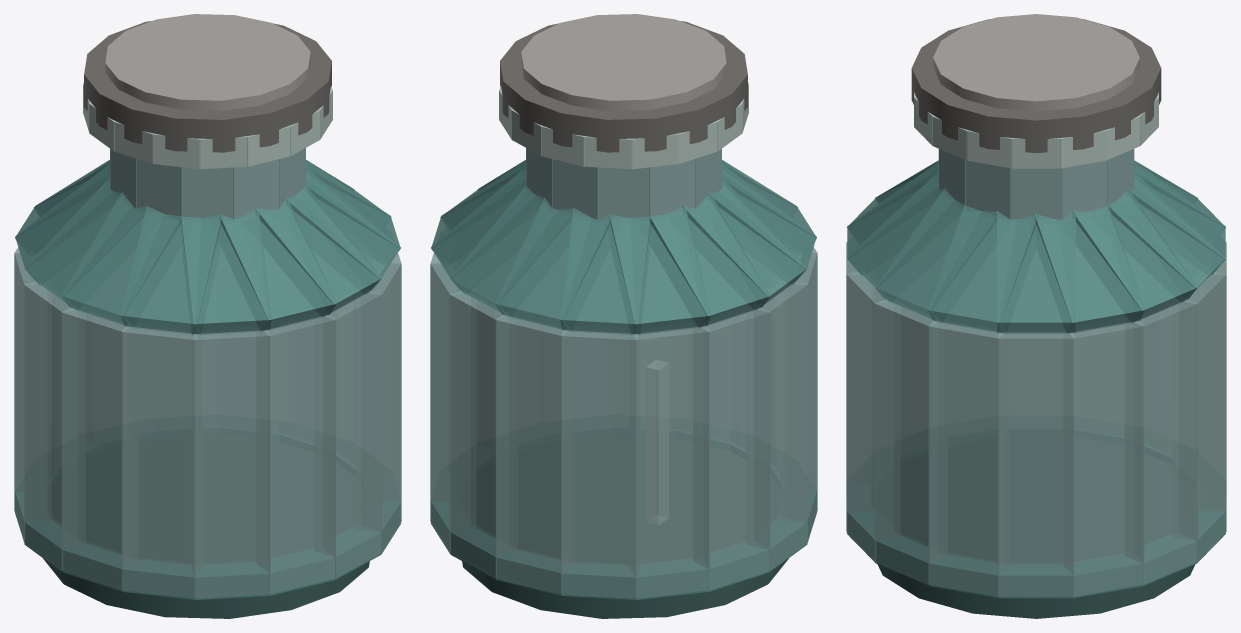
The model's file is CMU3DBottleCappedStudyCloud.glb.
3 views of the same model, side by side, from view 1: azimuth 30°, elevation 25°; view 2: azimuth 150°, elevation 25°; view 3: azimuth 270°, elevation 25° (orthographic).
Visible parts, largest first — view 1: thick circular glass heel, hollow bottle wall 11, hollow bottle wall 13, hollow bottle wall 12, hollow bottle wall 10, hollow bottle wall 14, recessed lid crown, hollow bottle wall 09, hollow bottle wall 15, source grey removable lid, inward glass shoulder 11, inward glass shoulder 13 (+35 smaller); view 2: thick circular glass heel, hollow bottle wall 07, hollow bottle wall 05, hollow bottle wall 06, hollow bottle wall 08, hollow bottle wall 04, recessed lid crown, hollow bottle wall 09, hollow bottle wall 03, source grey removable lid, inward glass shoulder 07, inward glass shoulder 05 (+36 smaller); view 3: thick circular glass heel, hollow bottle wall 16, hollow bottle wall 02, hollow bottle wall 01, hollow bottle wall 15, hollow bottle wall 03, recessed lid crown, hollow bottle wall 04, hollow bottle wall 14, source grey removable lid, inward glass shoulder 02, inward glass shoulder 16 (+33 smaller).
Boxes of the visible parts, bbox=[...] form: thick circular glass heel: bbox=[43, 435, 369, 618]; hollow bottle wall 11: bbox=[121, 326, 202, 598]; hollow bottle wall 13: bbox=[256, 314, 336, 593]; hollow bottle wall 12: bbox=[191, 329, 270, 598]; hollow bottle wall 10: bbox=[61, 307, 138, 589]; hollow bottle wall 14: bbox=[314, 291, 382, 578]; recessed lid crown: bbox=[105, 14, 310, 110]; hollow bottle wall 09: bbox=[24, 281, 85, 570]; hollow bottle wall 15: bbox=[356, 262, 401, 552]; source grey removable lid: bbox=[84, 21, 331, 152]; inward glass shoulder 11: bbox=[121, 206, 222, 335]; inward glass shoulder 13: bbox=[219, 197, 336, 331]; thick circular glass heel: bbox=[462, 435, 788, 618]; hollow bottle wall 07: bbox=[629, 326, 710, 598]; hollow bottle wall 05: bbox=[495, 315, 575, 593]; hollow bottle wall 06: bbox=[561, 329, 640, 598]; hollow bottle wall 08: bbox=[693, 307, 770, 589]; hollow bottle wall 04: bbox=[449, 291, 517, 578]; recessed lid crown: bbox=[521, 14, 726, 110]; hollow bottle wall 09: bbox=[746, 281, 807, 570]; hollow bottle wall 03: bbox=[430, 262, 475, 552]; source grey removable lid: bbox=[500, 21, 747, 152]; inward glass shoulder 07: bbox=[609, 206, 710, 335]; inward glass shoulder 05: bbox=[495, 197, 612, 331]; thick circular glass heel: bbox=[877, 436, 1195, 618]; hollow bottle wall 16: bbox=[928, 320, 1009, 596]; hollow bottle wall 02: bbox=[1063, 320, 1144, 596]; hollow bottle wall 01: bbox=[998, 331, 1074, 596]; hollow bottle wall 15: bbox=[875, 299, 947, 583]; hollow bottle wall 03: bbox=[1125, 299, 1197, 583]; recessed lid crown: bbox=[933, 14, 1139, 111]; hollow bottle wall 04: bbox=[1172, 272, 1226, 561]; hollow bottle wall 14: bbox=[846, 272, 900, 561]; source grey removable lid: bbox=[911, 19, 1161, 153]; inward glass shoulder 02: bbox=[1034, 205, 1144, 334]; inward glass shoulder 16: bbox=[928, 205, 1038, 334].
Size of the model in its own units: 0.3384 by 0.482 by 0.3384.
